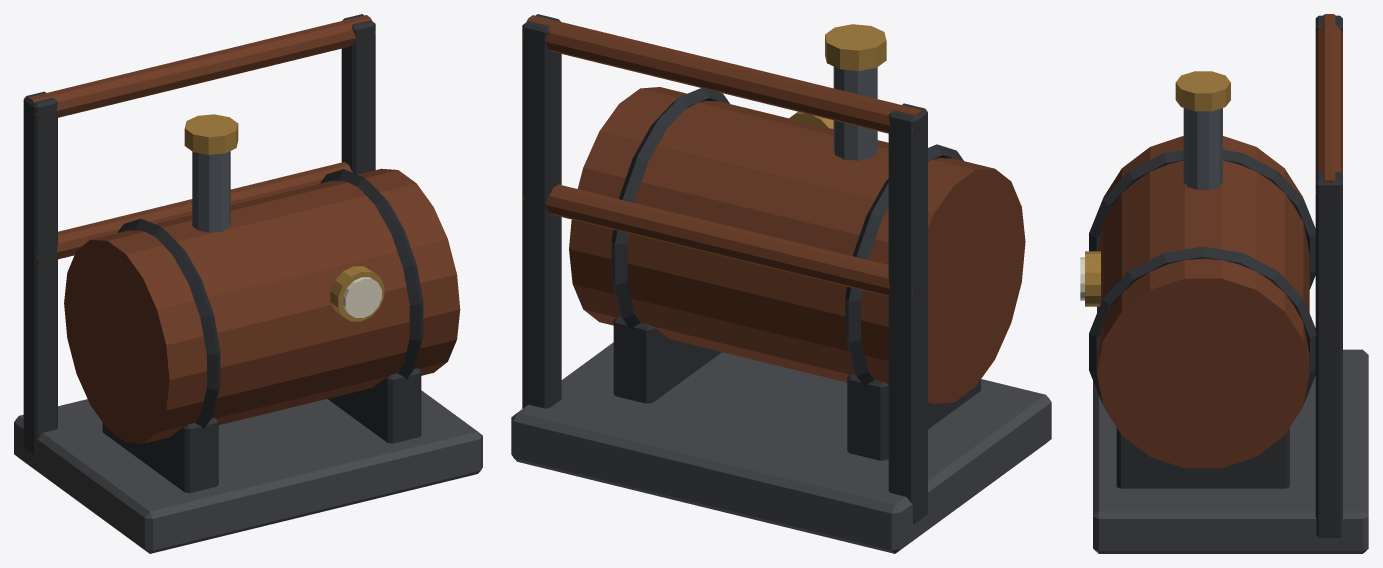
The model's file is press_wall_b.glb.
The picture shows the model from 3 angles, left to right: view 1: azimuth 30°, elevation 25°; view 2: azimuth 150°, elevation 25°; view 3: azimuth 270°, elevation 25°; orthographic projection. The views are drawn at different scales.
Visible parts, largest first — view 1: PressWallB; view 2: PressWallB; view 3: PressWallB.
Boxes of the visible parts, bbox=[...] form: PressWallB: bbox=[14, 14, 482, 553]; PressWallB: bbox=[511, 14, 1051, 553]; PressWallB: bbox=[1080, 14, 1368, 553].
Size of the model in its own units: 1.01 by 1.05 by 0.7325.
